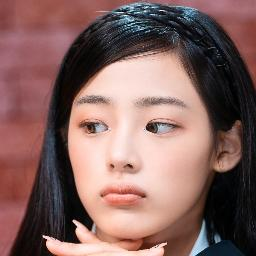summerCool: (72, 63, 204, 239)
